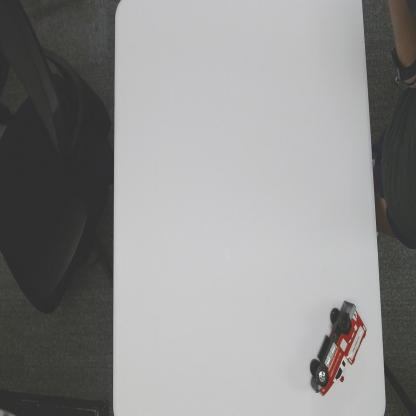Firetruck: (308, 300, 367, 398)
